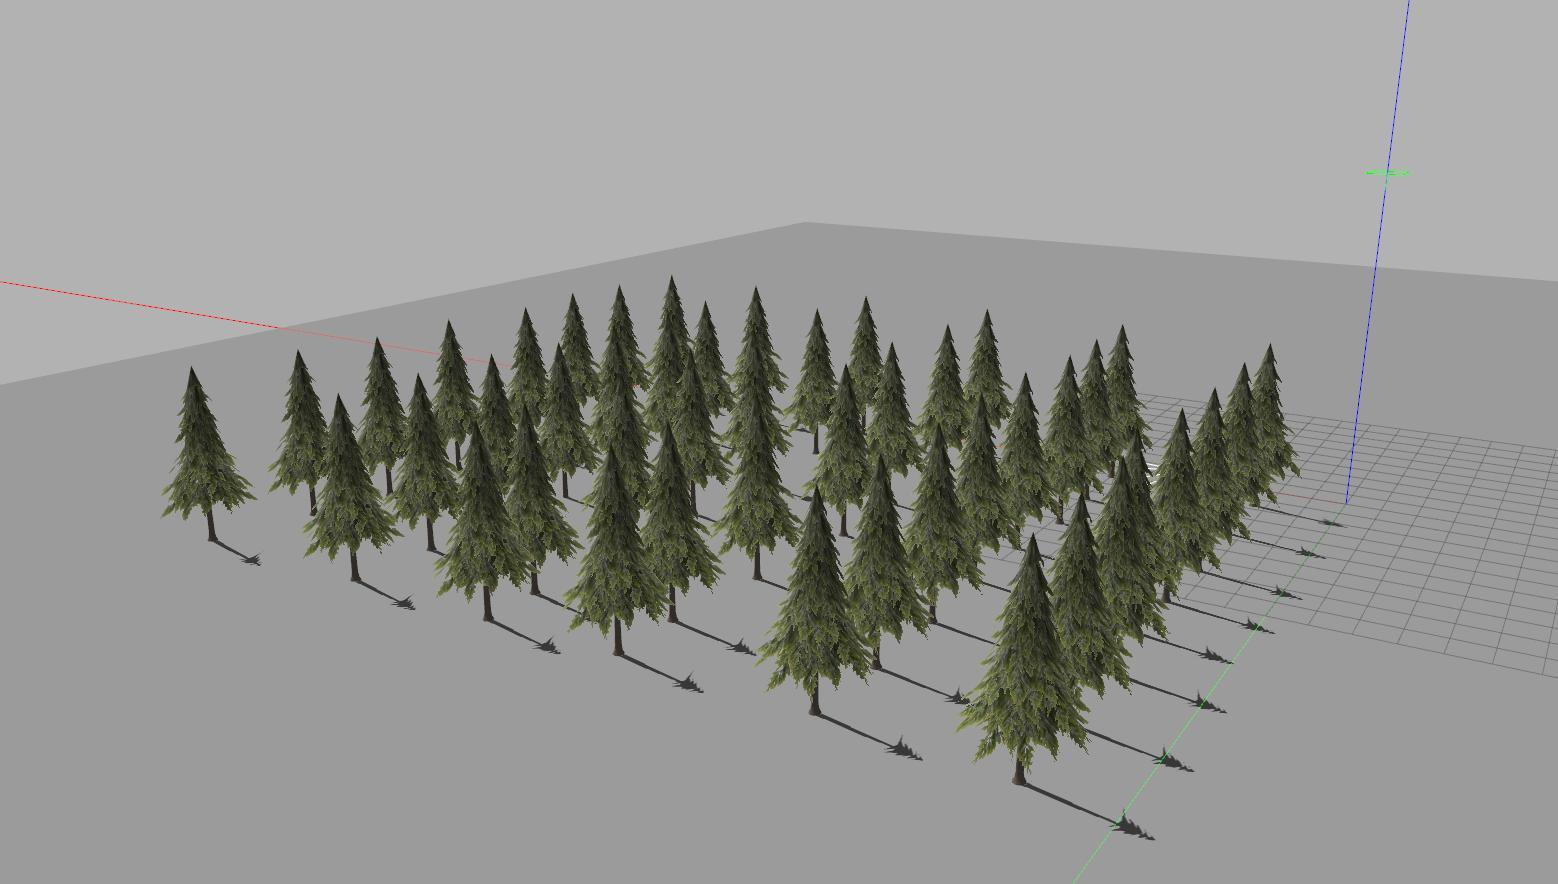tree_gazebo: (165, 368, 259, 564), (271, 353, 329, 513)
